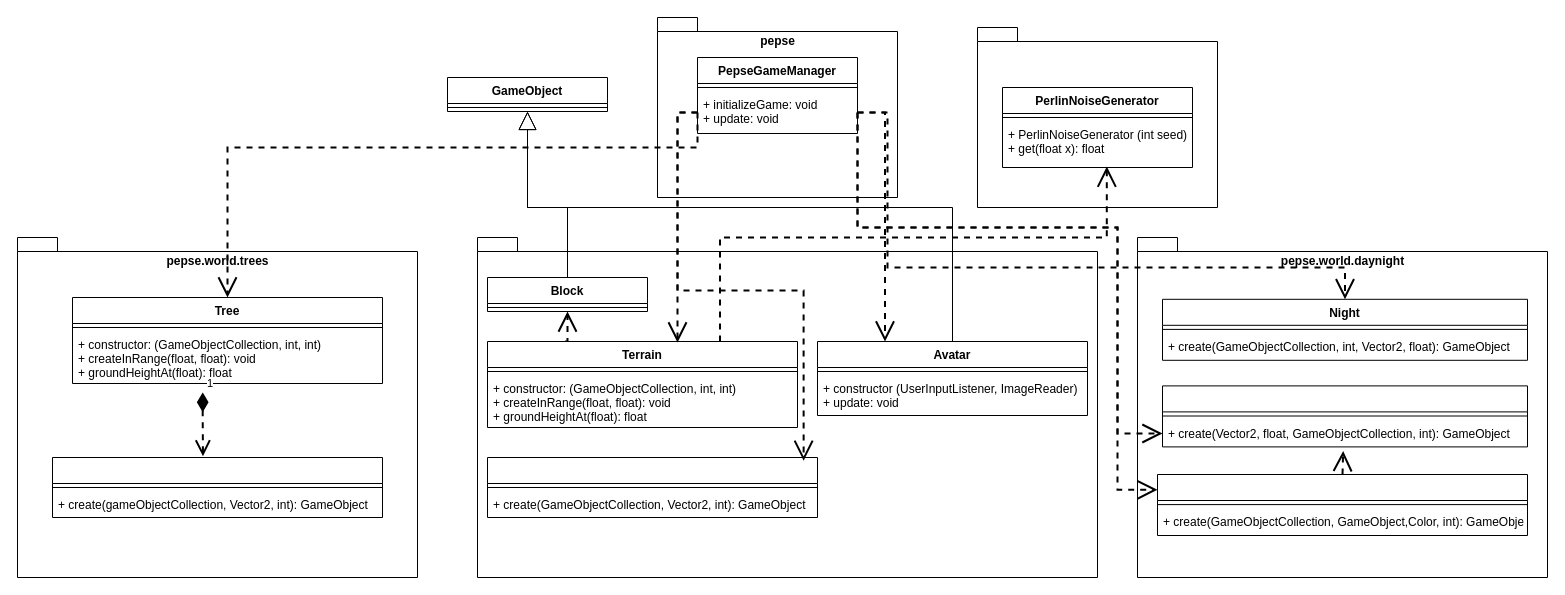
Some shapes in this 1565 by 595 pixel diagram are drawn without their labels. The box of each missing label's shape, as (x1, y1, x2, y2) in pixels:
Leaf: (52, 456, 382, 518)
pepse.util: (976, 26, 1218, 208)
pepse.world: (476, 236, 1098, 578)
Sky: (486, 456, 818, 518)
Sun: (1162, 385, 1528, 447)
SunHalo: (1156, 474, 1528, 536)
